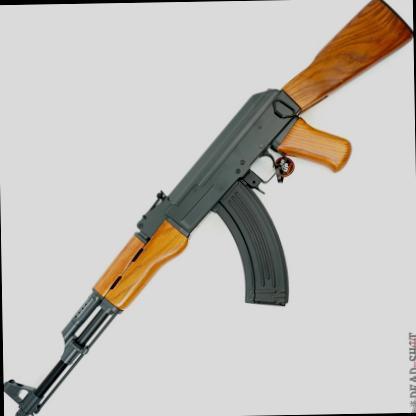rifle: (0, 3, 416, 412)
